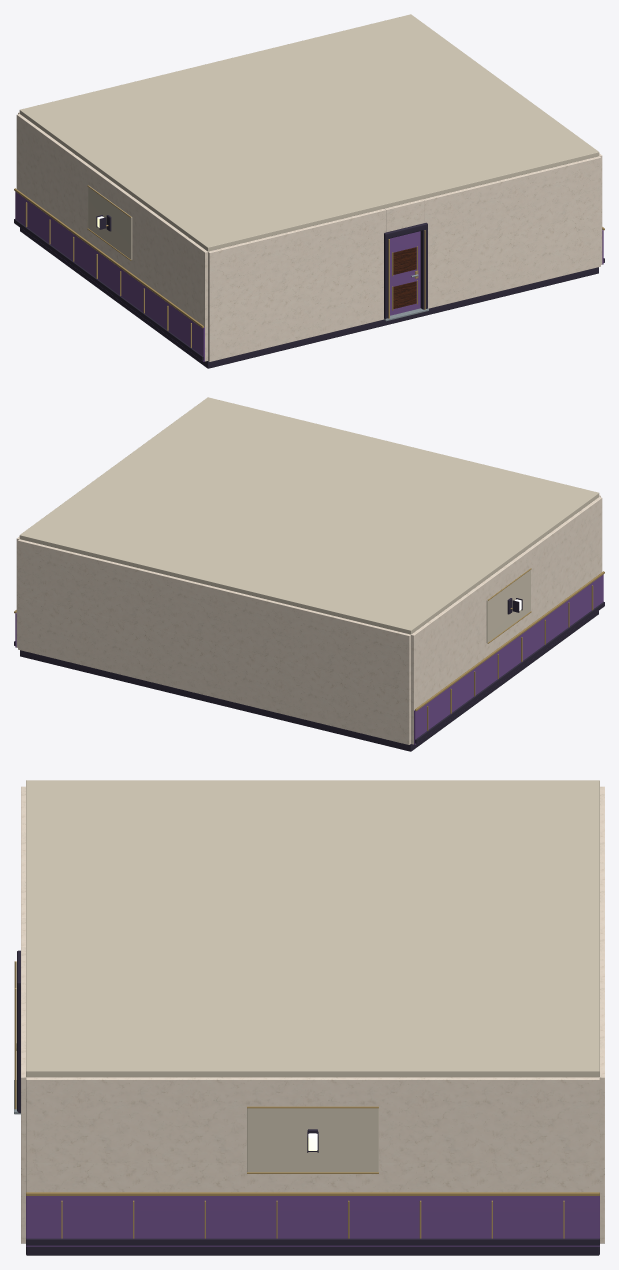
The model's file is kitchen.glb.
The picture shows the model from 3 angles, top to bottom: view 1: azimuth 30°, elevation 25°; view 2: azimuth 150°, elevation 25°; view 3: azimuth 270°, elevation 25°; orthographic projection. The views are drawn at different scales.
Visible parts, largest first — view 1: ceiling_surface.010, front_wall.032, front_wall.030, left_wall.026, left_wainscot.018, floor.011, left_upper_inset.018, kitchen_leaf, left_skirt.018, front_wall.031, left_rail.018, kitchen_jamb.001 (+2 smaller); view 2: ceiling_surface.010, back_wall.020, left_wall.026, left_wainscot.018, floor.011, left_upper_inset.018, left_skirt.018, left_rail.018; view 3: ceiling_surface.010, right_wall.026, right_wainscot.018, right_upper_inset.018, floor.011, right_skirt.018, right_rail.018, back_wall.020, front_wall.030, front_wall.032.
Part boxes in pixels (left/top/right/bottom): ceiling_surface.010: left=19, top=14, right=599, bottom=251; front_wall.032: left=208, top=209, right=385, bottom=361; front_wall.030: left=423, top=156, right=600, bottom=308; left_wall.026: left=16, top=114, right=207, bottom=361; left_wainscot.018: left=15, top=191, right=204, bottom=361; floor.011: left=20, top=228, right=598, bottom=368; left_upper_inset.018: left=88, top=186, right=132, bottom=259; kitchen_leaf: left=390, top=231, right=420, bottom=315; left_skirt.018: left=14, top=219, right=203, bottom=360; front_wall.031: left=384, top=199, right=424, bottom=232; left_rail.018: left=14, top=188, right=203, bottom=328; kitchen_jamb.001: left=420, top=227, right=427, bottom=309; ceiling_surface.010: left=19, top=397, right=599, bottom=634; back_wall.020: left=18, top=539, right=410, bottom=744; left_wall.026: left=411, top=497, right=602, bottom=744; left_wainscot.018: left=414, top=574, right=603, bottom=744; floor.011: left=20, top=611, right=598, bottom=751; left_upper_inset.018: left=486, top=569, right=530, bottom=642; left_skirt.018: left=415, top=602, right=604, bottom=743; left_rail.018: left=415, top=571, right=604, bottom=711; ceiling_surface.010: left=26, top=780, right=599, bottom=1077; right_wall.026: left=26, top=1077, right=599, bottom=1192; right_wainscot.018: left=26, top=1196, right=599, bottom=1246; right_upper_inset.018: left=247, top=1108, right=378, bottom=1172; floor.011: left=26, top=1246, right=599, bottom=1255; right_skirt.018: left=26, top=1238, right=599, bottom=1245; right_rail.018: left=26, top=1192, right=599, bottom=1195; back_wall.020: left=599, top=786, right=604, bottom=1243; front_wall.030: left=21, top=946, right=25, bottom=1243; front_wall.032: left=21, top=786, right=25, bottom=917.
Bounding box in the file's own units: 12.96 × 3.56 × 10.3.
10 materials, 2 textured.
